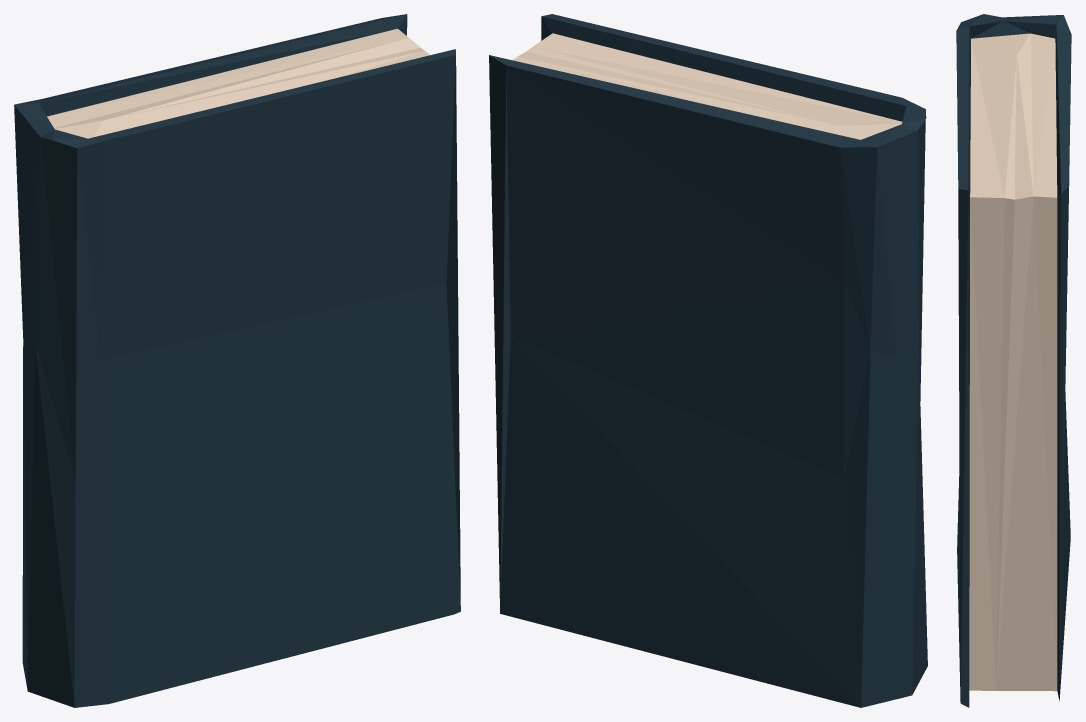
Rendered from SFFA_Book_006.fbx.
3 renders of one model, left to right at view 1: azimuth 30°, elevation 25°; view 2: azimuth 150°, elevation 25°; view 3: azimuth 270°, elevation 25°, orthographic. The views are drawn at different scales.
Visible parts, largest first — view 1: SFFA_Book_006; view 2: SFFA_Book_006; view 3: SFFA_Book_006.
Boxes of the visible parts, x1,y1,x2,y2 form: SFFA_Book_006: (14,14,460,707); SFFA_Book_006: (489,14,927,707); SFFA_Book_006: (956,14,1071,707).
Size of the model in its own units: 18.29 by 24.61 by 4.95.
